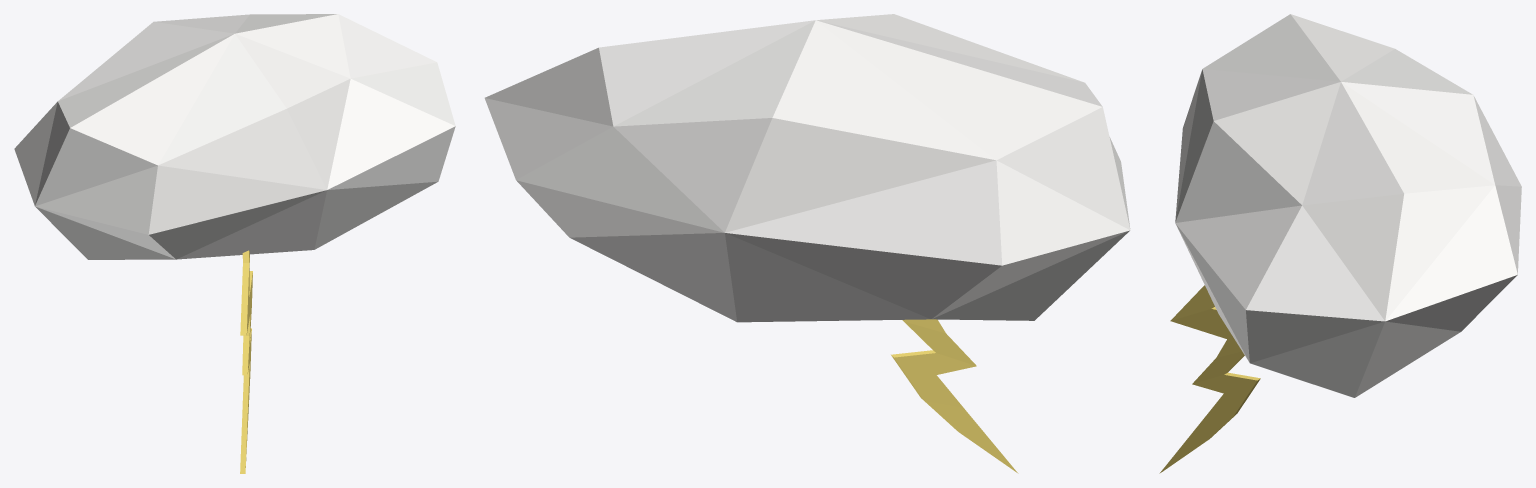
File: Isl_6_Cloud_Lightening.fbx
3 renders of one model, left to right at view 1: azimuth 30°, elevation 25°; view 2: azimuth 150°, elevation 25°; view 3: azimuth 270°, elevation 25°, orthographic. The views are drawn at different scales.
Parts seen in each view (by area): view 1: Isl_6_Cloud_Lightening; view 2: Isl_6_Cloud_Lightening; view 3: Isl_6_Cloud_Lightening.
Part boxes in pixels (bbox=[...]): Isl_6_Cloud_Lightening: bbox=[14, 14, 455, 473]; Isl_6_Cloud_Lightening: bbox=[484, 14, 1130, 473]; Isl_6_Cloud_Lightening: bbox=[1159, 14, 1521, 473].
Bounding box in the file's own units: 742 × 457 × 598.
1 material, 1 textured.
